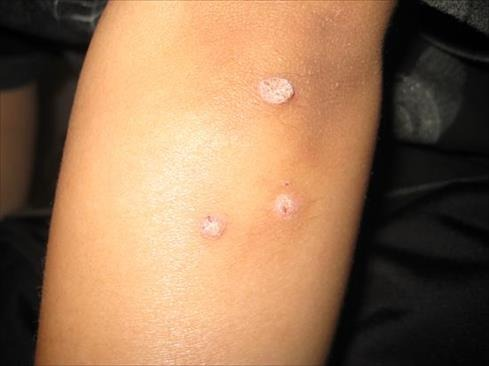Warts: (244, 66, 308, 122), (261, 178, 304, 233), (189, 205, 236, 249)
